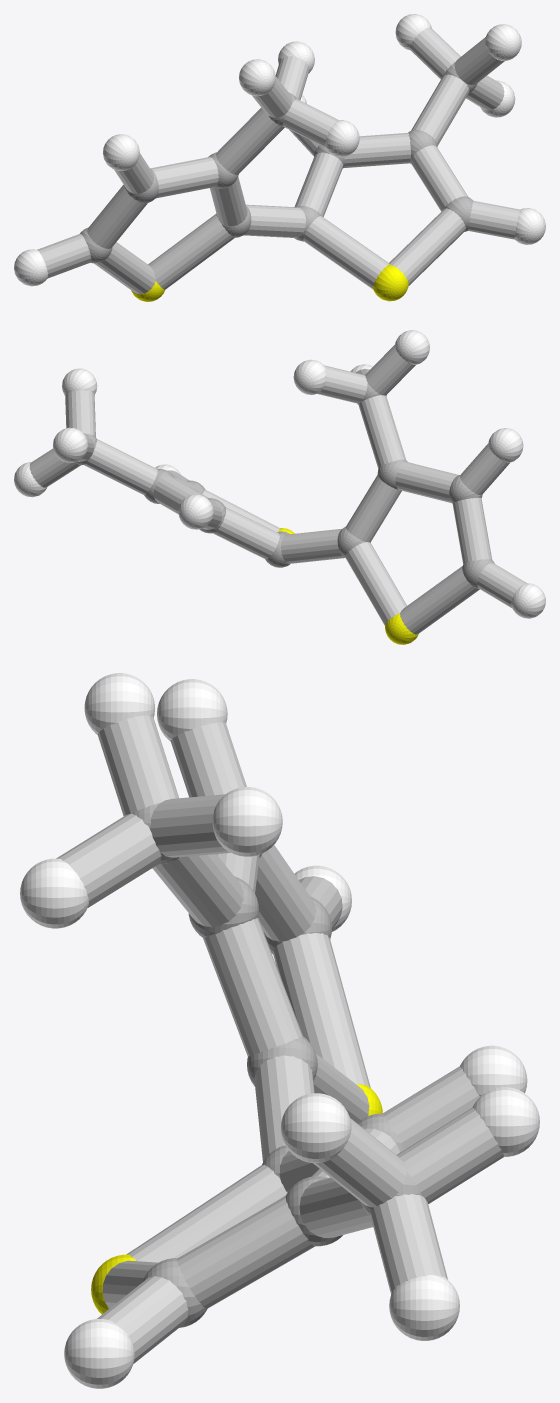
File: Methylthiophene_Phi_30_Theta_100_Methylthiophene.glb
3 views of the same model, one above another, from view 1: azimuth 30°, elevation 25°; view 2: azimuth 150°, elevation 25°; view 3: azimuth 270°, elevation 25° (orthographic). The views are drawn at different scales.
Visible parts, largest first — view 1: grp7965, grp3621, grp1, grp7241; view 2: grp7965, grp3621, grp1, grp7241; view 3: grp7965, grp3621, grp1, grp7241.
Part boxes in pixels (box(x1,y1,x2,y2)): grp7965: box(37, 27, 519, 294); grp3621: box(14, 14, 545, 286); grp1: box(80, 62, 477, 263); grp7241: box(131, 264, 408, 301); grp7965: box(29, 345, 526, 634); grp3621: box(14, 330, 545, 618); grp1: box(75, 374, 494, 589); grp7241: box(278, 528, 418, 644); grp7965: box(56, 715, 503, 1363); grp3621: box(20, 673, 539, 1388); grp1: box(132, 803, 422, 1327); grp7241: box(91, 1084, 382, 1314).
Bounding box in the file's own units: 9.8 × 4.87 × 4.41.
